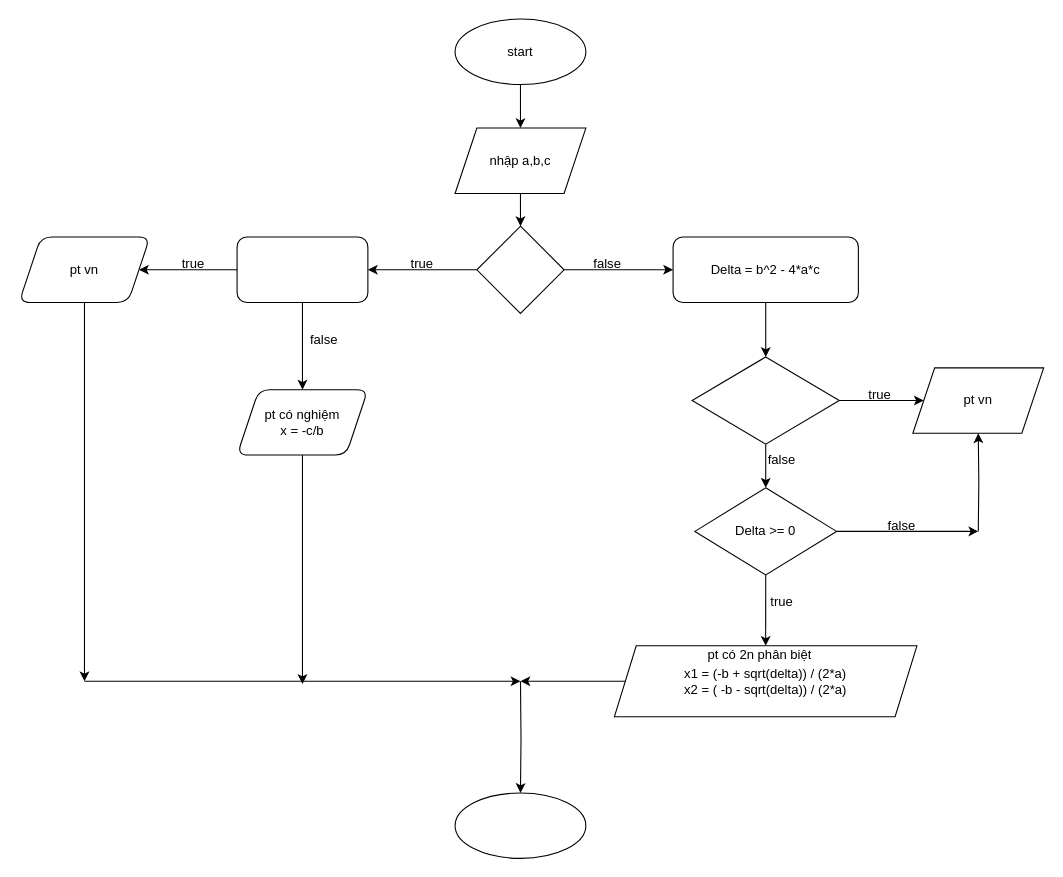
Some shapes in this 1063 by 877 pixel diagram are drawn without their labels. Each missing label, with the box of its shape:
a = 0: (476, 225, 564, 313)
b = 0: (236, 236, 368, 302)
Delta < 0: (691, 356, 839, 444)
end: (454, 792, 586, 858)
